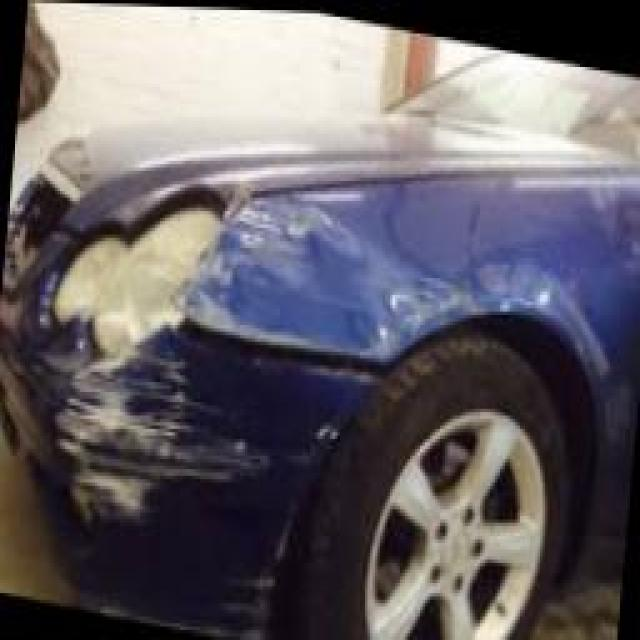replaceable: (48, 402, 254, 577), (217, 196, 419, 325), (254, 566, 300, 640)
